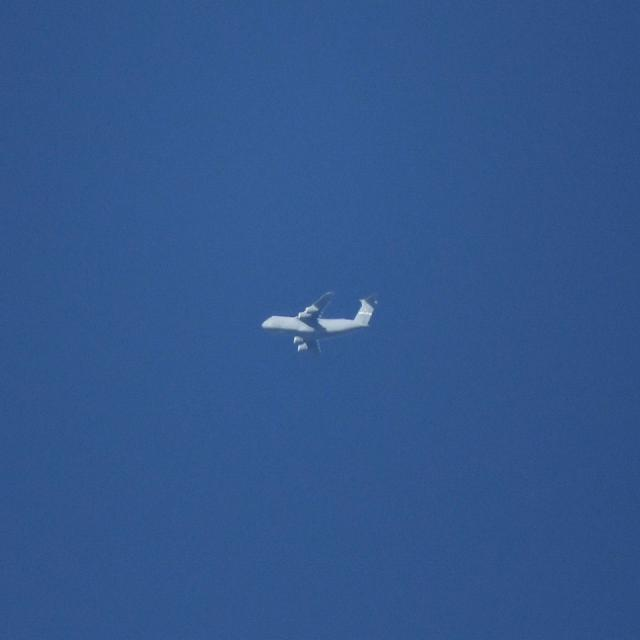MIL_Plane: (260, 291, 382, 357)
